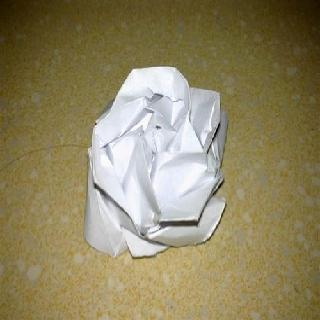8/可回收垃圾/纸: (83, 65, 228, 260)
